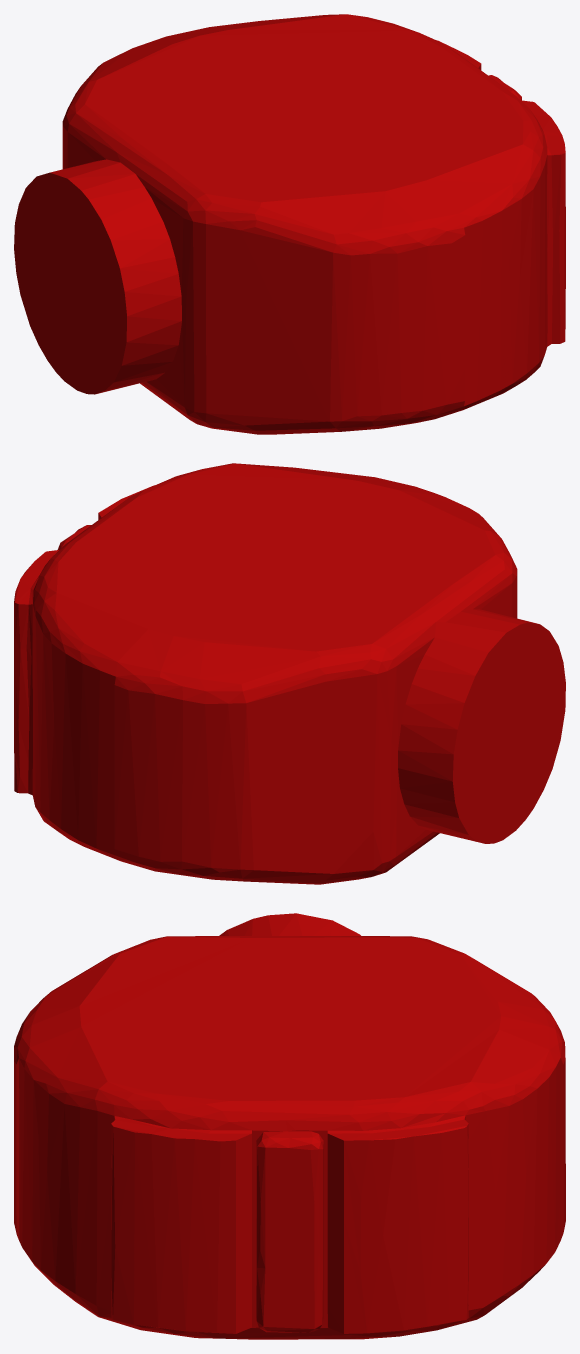
Rendered from gripper_palm.gltf.
3 renders of one model, top to bottom at view 1: azimuth 30°, elevation 25°; view 2: azimuth 150°, elevation 25°; view 3: azimuth 270°, elevation 25°, orthographic. The views are drawn at different scales.
Visible parts, largest first — view 1: Node; view 2: Node; view 3: Node.
Part boxes in pixels (x1,y1,x2,y2): Node: (14, 14, 565, 434); Node: (14, 463, 565, 884); Node: (14, 913, 565, 1339).
Bounding box in the file's own units: 0.0961 × 0.0485 × 0.102.
